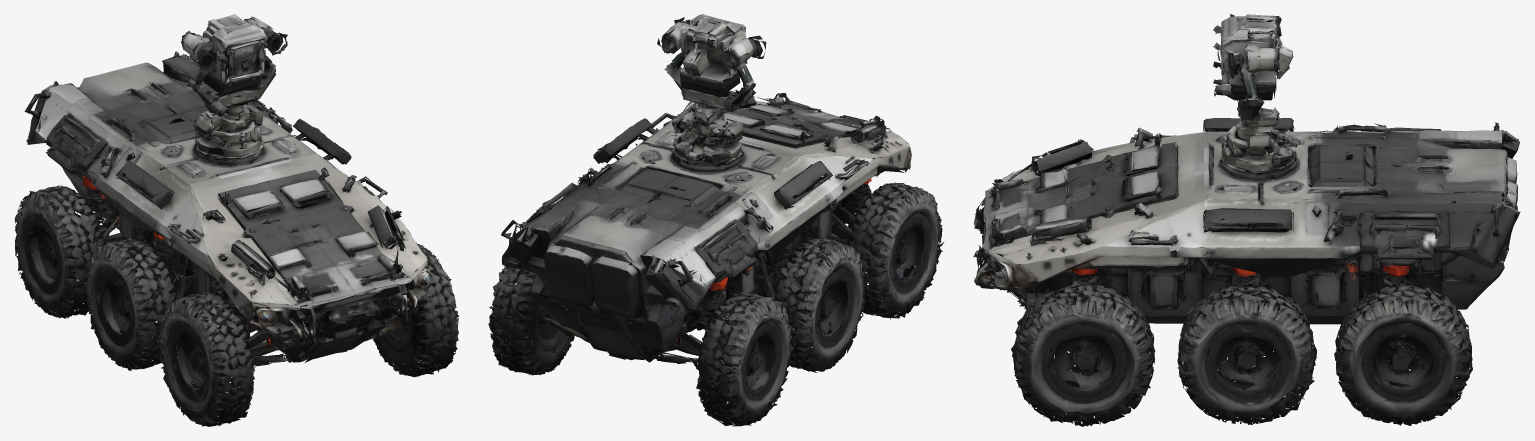
File: example-brand_image_42.glb
The picture shows the model from 3 angles, left to right: view 1: azimuth 30°, elevation 25°; view 2: azimuth 150°, elevation 25°; view 3: azimuth 270°, elevation 25°; orthographic projection. The views are drawn at different scales.
Parts seen in each view (by area): view 1: Mesh_0; view 2: Mesh_0; view 3: Mesh_0.
Part boxes in pixels (x1,y1,x2,y2): Mesh_0: (14, 14, 458, 426); Mesh_0: (488, 14, 943, 426); Mesh_0: (973, 14, 1520, 426).
Bounding box in the file's own units: 0.5769 × 0.6975 × 1.
1 material, 1 textured.
